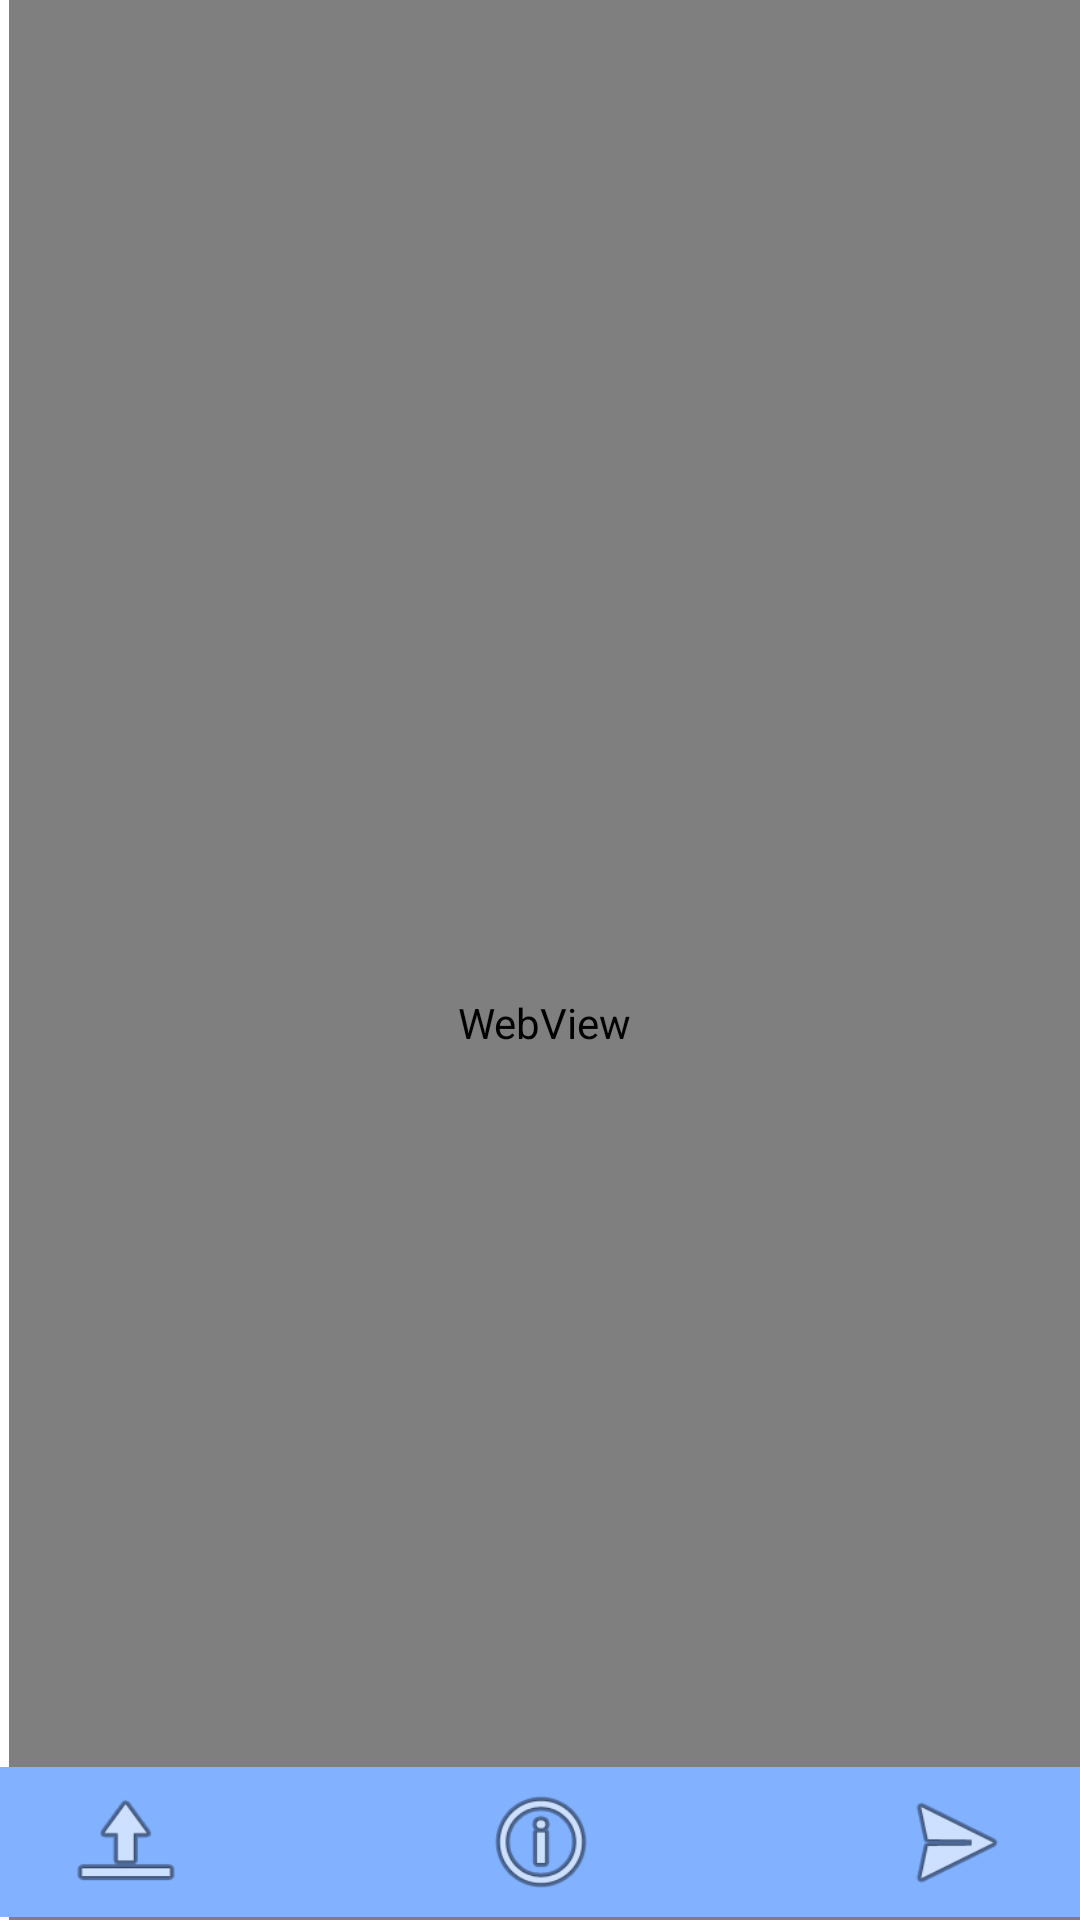

Screen size 1080 x 1920. Icon name, then its box in pixels as (x1, y1, x2, y2):
info details: (495, 1797, 587, 1888)
send: (917, 1803, 998, 1883)
upload: (77, 1800, 175, 1880)
